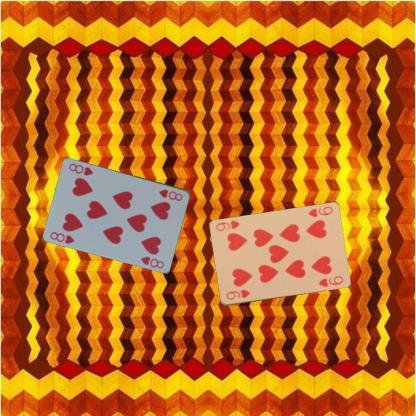8h: (47, 229, 76, 245), (156, 186, 184, 202)
9h: (305, 204, 334, 218), (224, 287, 251, 301)
